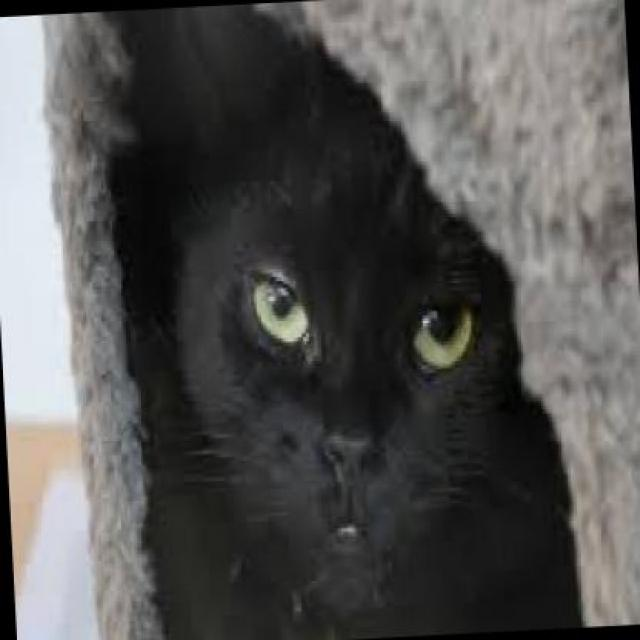animals: (160, 103, 565, 639)
